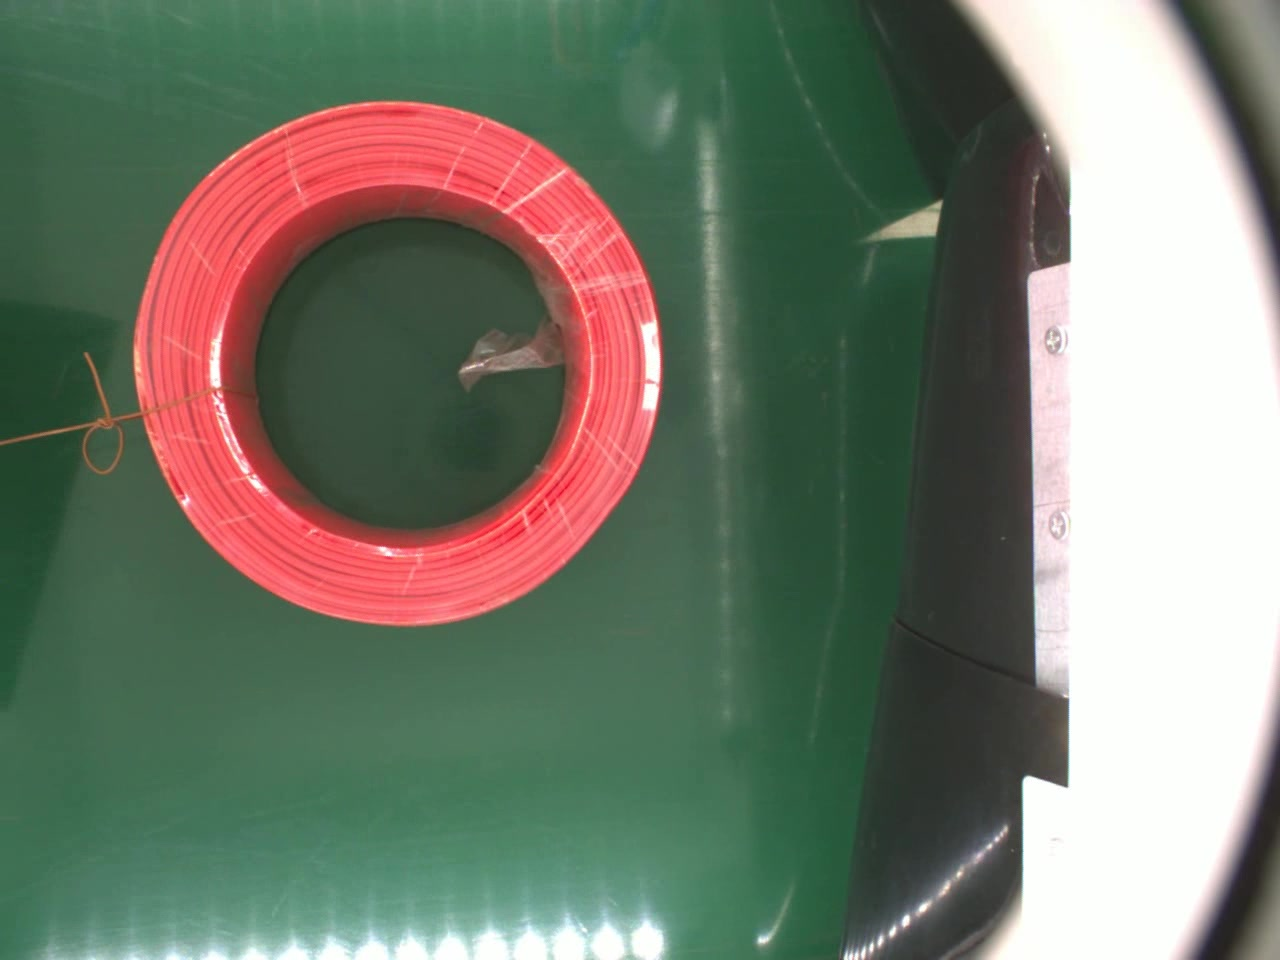red: (127, 96, 670, 642)
